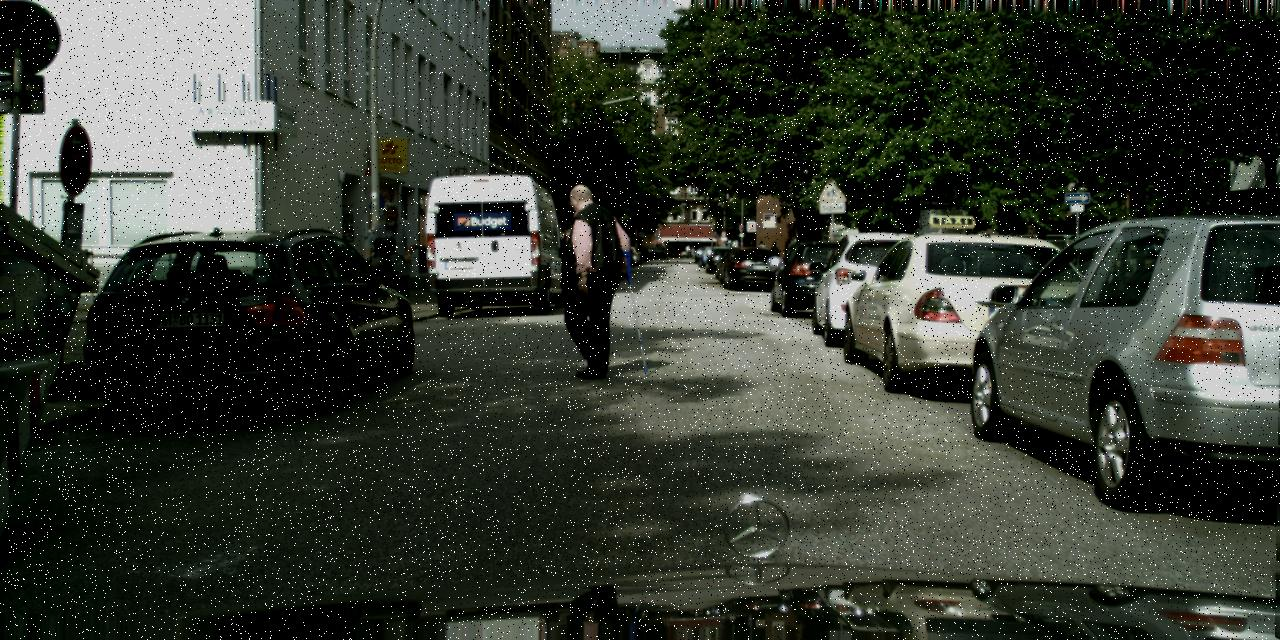ped: (551, 184, 630, 379), (367, 200, 417, 322), (786, 238, 798, 268), (756, 241, 767, 267), (769, 242, 779, 268), (684, 243, 696, 259)
